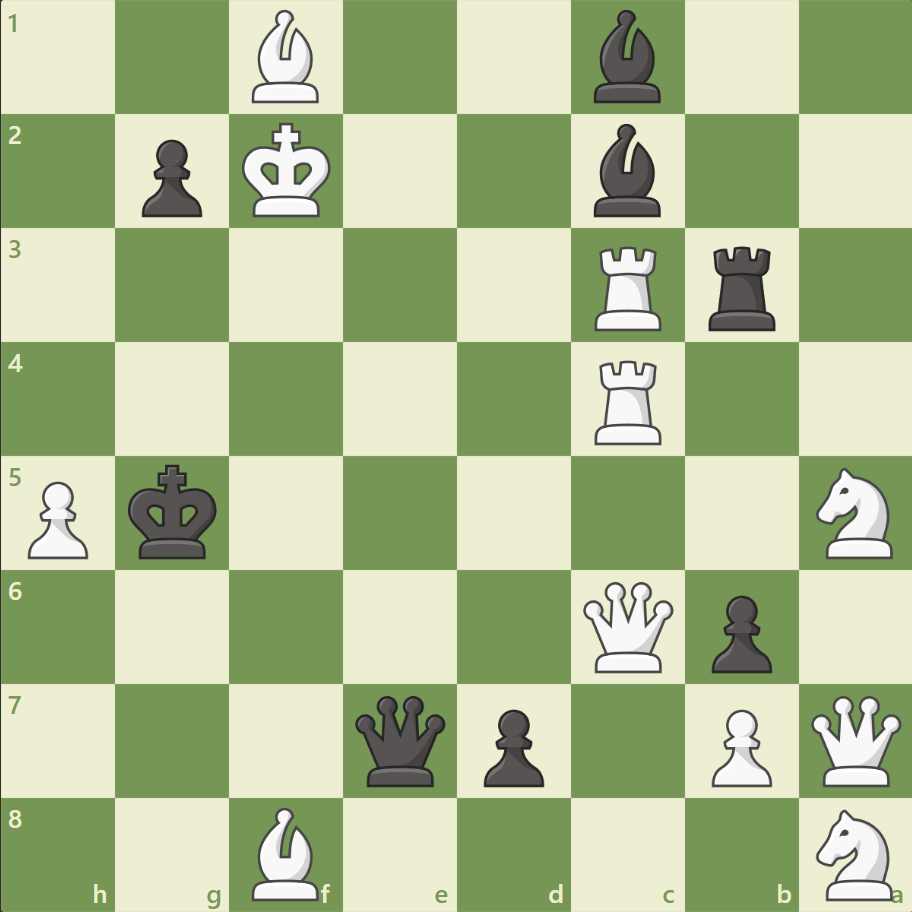B: (244, 801, 328, 904), (244, 6, 328, 109)
K: (238, 117, 338, 225)
N: (806, 461, 903, 564), (806, 802, 903, 904)
P: (701, 700, 776, 791), (20, 473, 95, 564)
Q: (578, 576, 677, 676), (805, 690, 904, 789)
R: (587, 352, 670, 449), (587, 239, 670, 336)
b: (585, 6, 669, 109), (585, 120, 669, 222)
k: (124, 458, 224, 566)
p: (474, 700, 549, 791), (701, 586, 776, 677), (133, 132, 208, 223)
q: (351, 690, 450, 789)
r: (700, 239, 783, 336)
